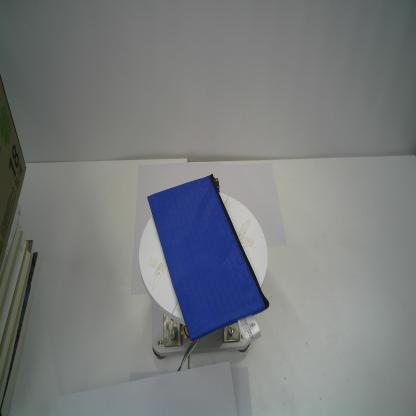Stationery: (146, 172, 271, 347)
